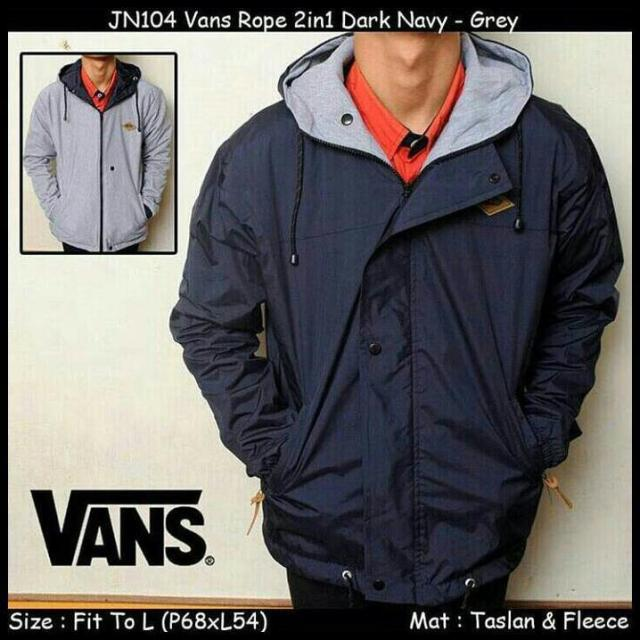jacket: (172, 28, 632, 601), (20, 56, 184, 255)
